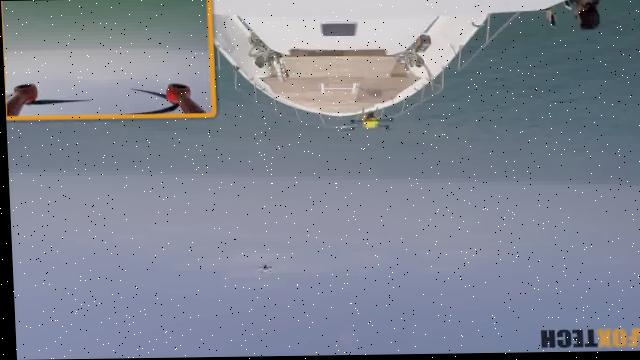drone: (338, 109, 401, 141), (249, 257, 278, 283)
